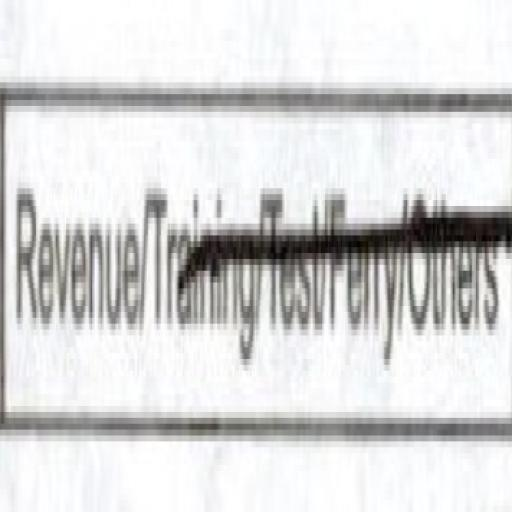check: (0, 28, 143, 442)
